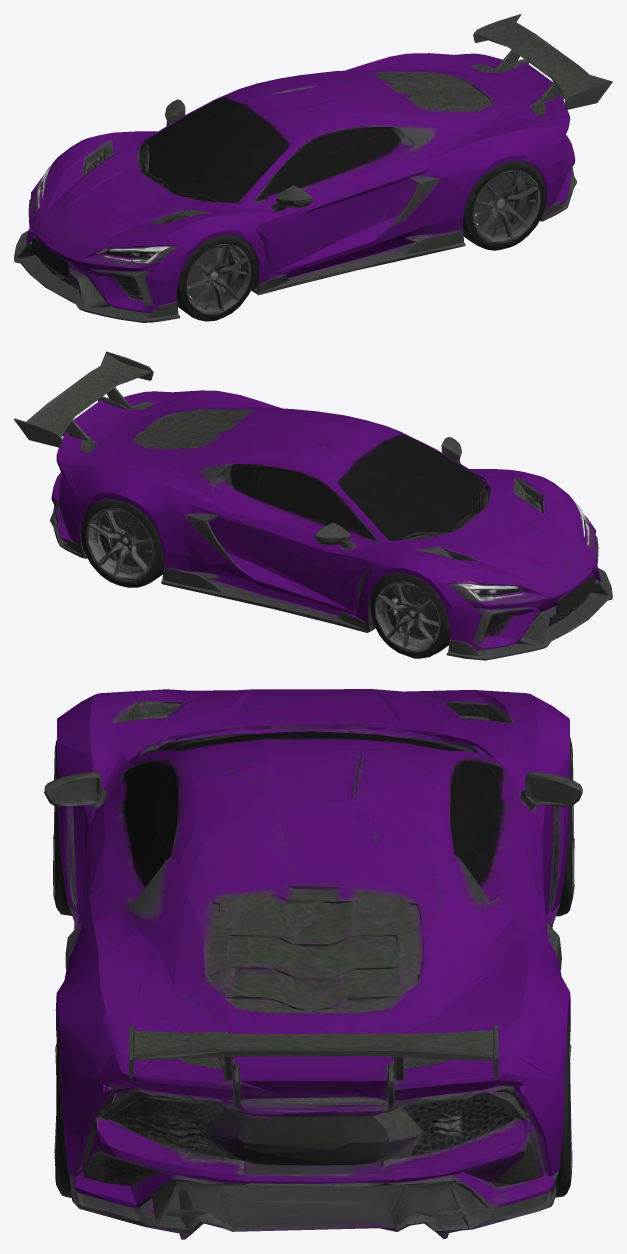
The model's file is car1.glb.
3 renders of one model, top to bottom at view 1: azimuth 30°, elevation 25°; view 2: azimuth 150°, elevation 25°; view 3: azimuth 270°, elevation 25°, orthographic. The views are drawn at different scales.
Parts seen in each view (by area): view 1: Mesh_0; view 2: Mesh_0; view 3: Mesh_0.
Part boxes in pixels (bbox=[...]): Mesh_0: bbox=[14, 14, 612, 322]; Mesh_0: bbox=[14, 351, 612, 660]; Mesh_0: bbox=[44, 689, 582, 1239].
Size of the model in its own units: 1.9 by 0.4877 by 0.8443.
Materials: 1 (1 with a texture image).
